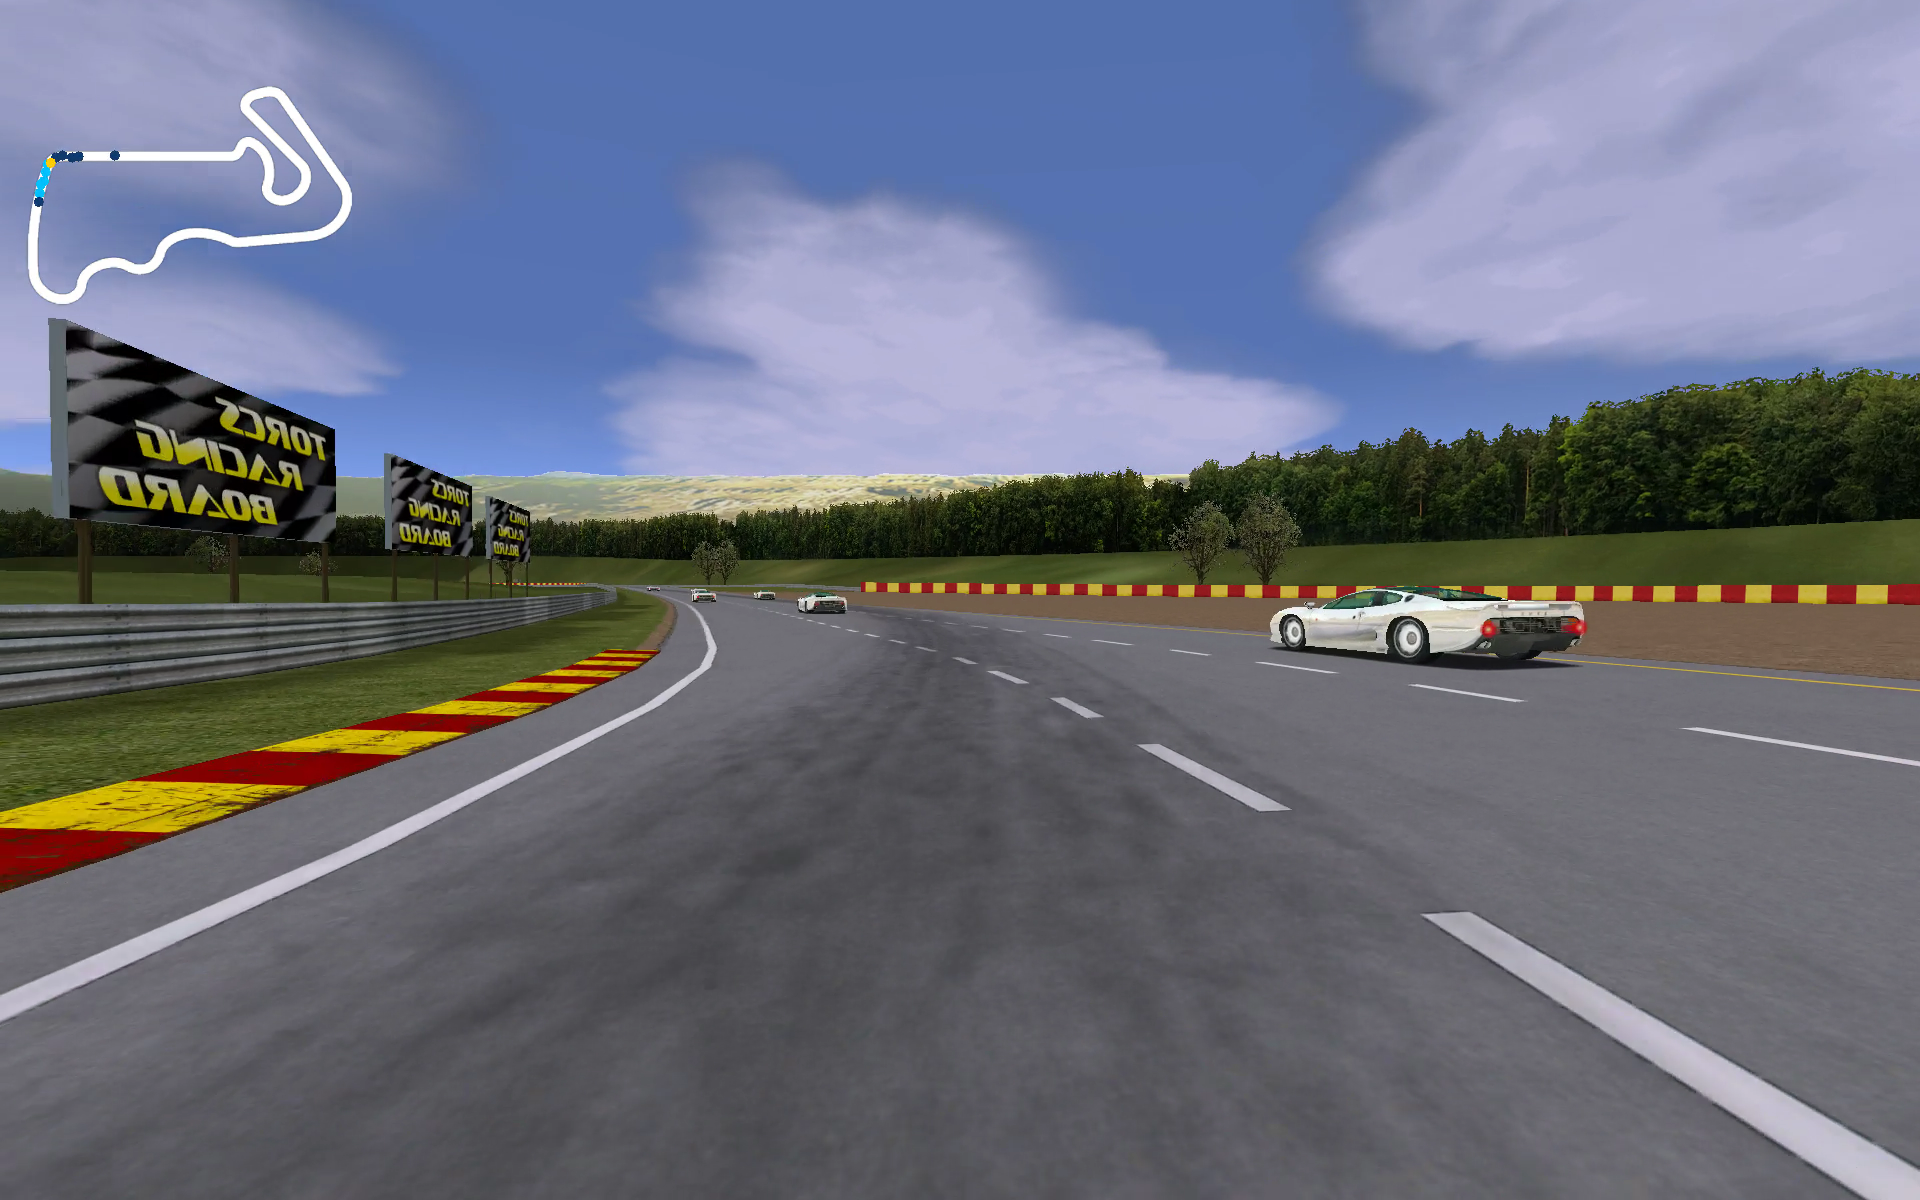car: (1269, 586, 1591, 668), (795, 590, 850, 617), (688, 585, 722, 604)
